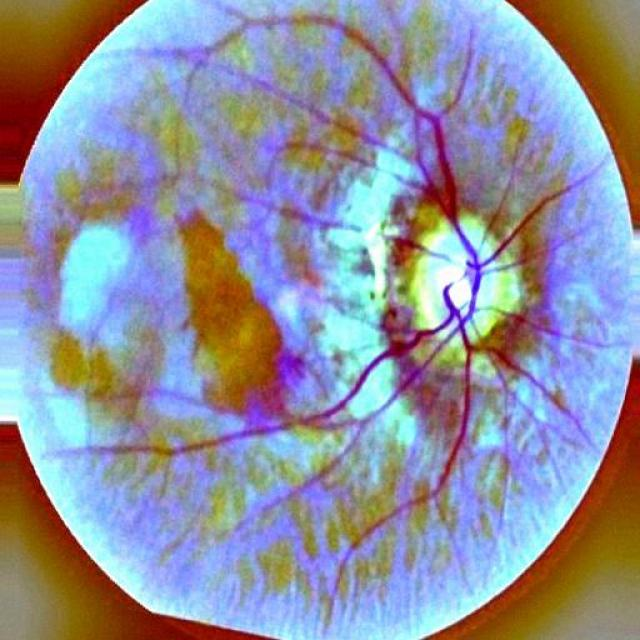Macula: (187, 224, 285, 415)
Nerves: (211, 17, 484, 296), (323, 288, 476, 619), (350, 296, 480, 433)
Optic Disk: (383, 190, 554, 390)
